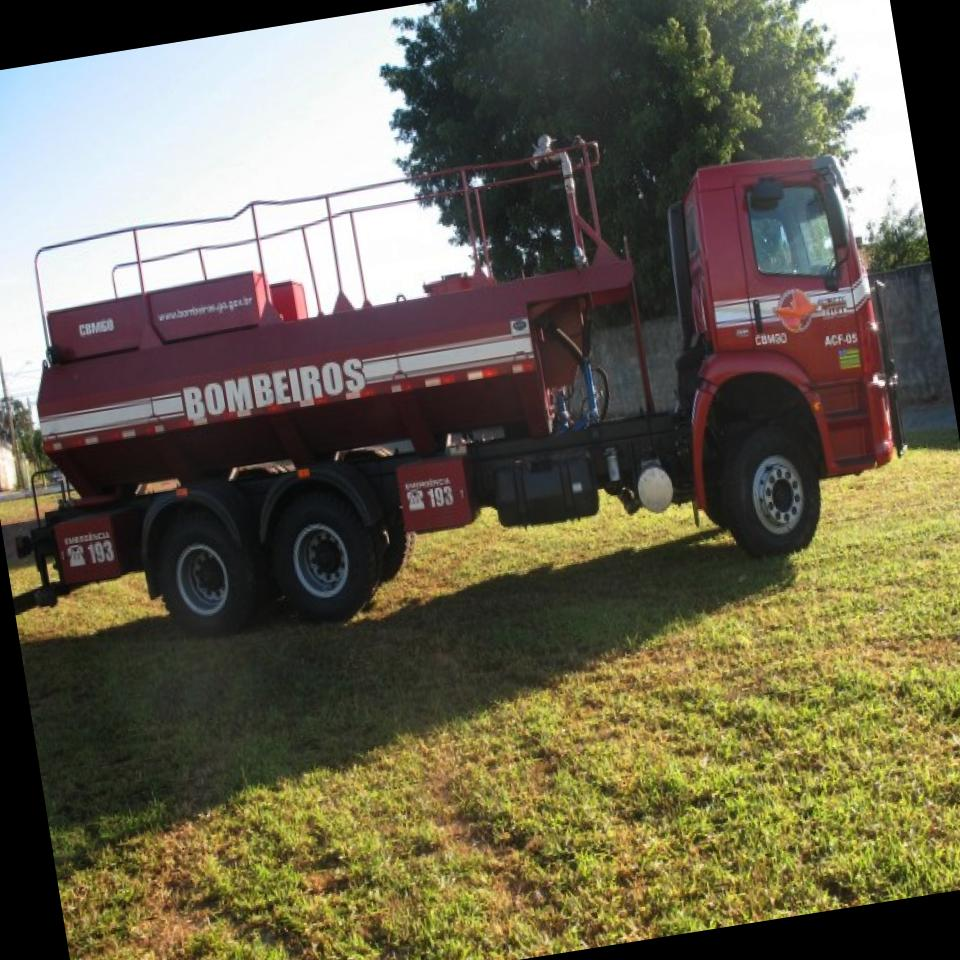viatura: (0, 78, 926, 677)
